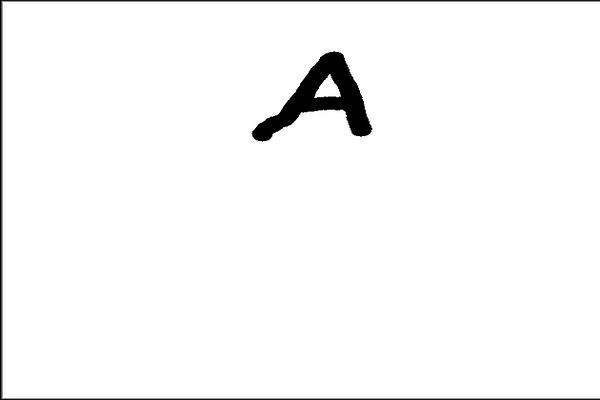A: (245, 41, 375, 149)
